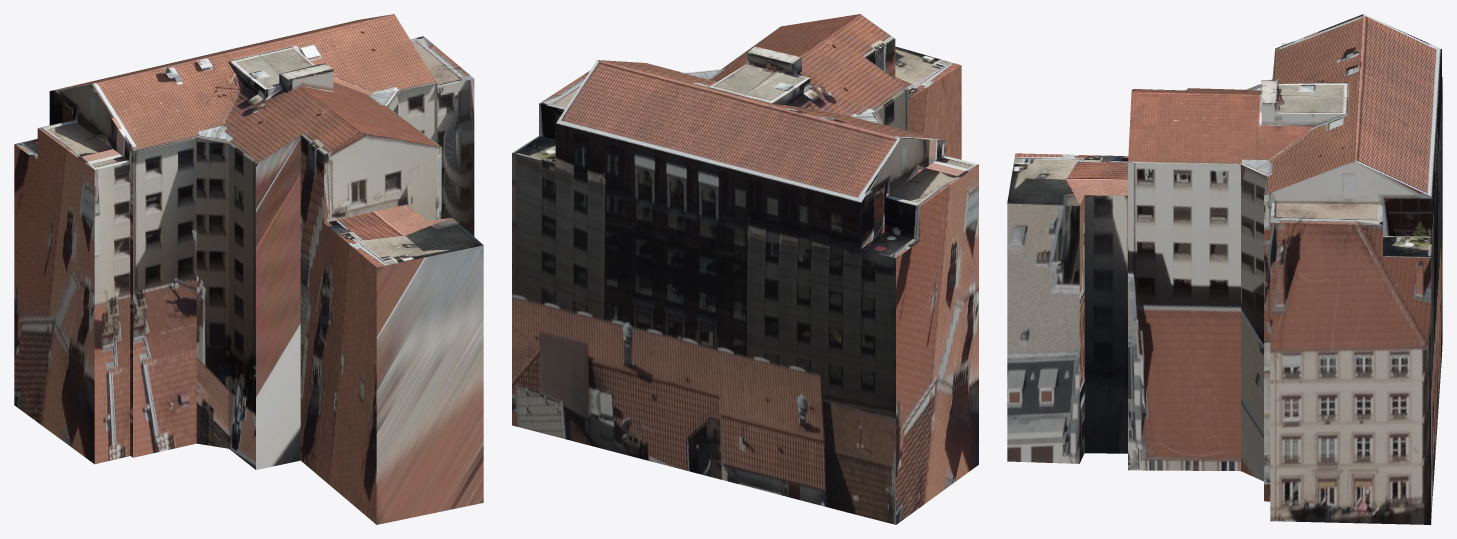
3 views of the same model, side by side, from view 1: azimuth 30°, elevation 25°; view 2: azimuth 150°, elevation 25°; view 3: azimuth 270°, elevation 25° (orthographic). The views are drawn at different scales.
Visible parts, largest first — view 1: Z_UP; view 2: Z_UP; view 3: Z_UP.
Part boxes in pixels (left/top/right/bottom): Z_UP: left=14, top=14, right=483, bottom=524; Z_UP: left=512, top=14, right=978, bottom=524; Z_UP: left=1007, top=14, right=1442, bottom=524.
Size of the model in its own units: 32.47 by 28.16 by 31.99.
Materials: 2 (1 with a texture image).
